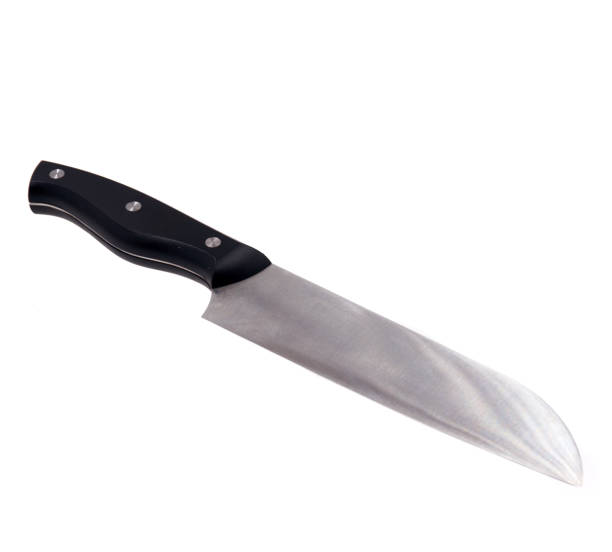knife: (29, 161, 584, 487)
